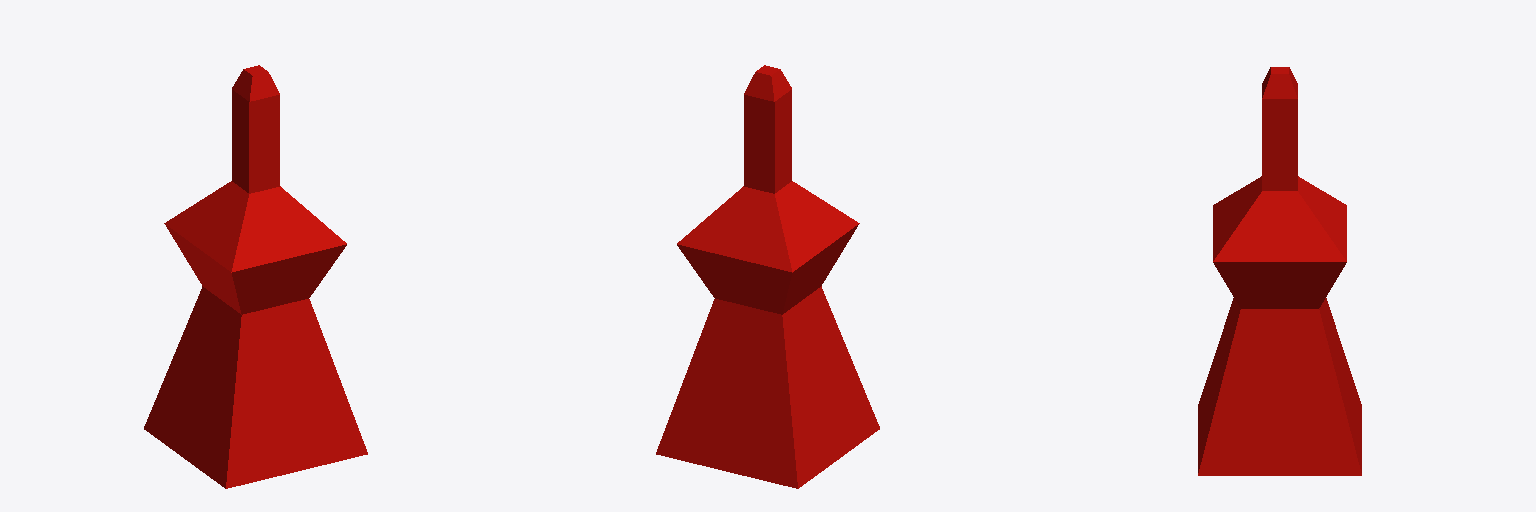
Rendered from Stupid.obj.
The picture shows the model from 3 angles: view 1: azimuth 30°, elevation 25°; view 2: azimuth 150°, elevation 25°; view 3: azimuth 270°, elevation 25°; orthographic projection.
Visible parts, largest first — view 1: Cube; view 2: Cube; view 3: Cube.
Part boxes in pixels (bbox=[...]): Cube: bbox=[144, 65, 367, 488]; Cube: bbox=[656, 65, 879, 488]; Cube: bbox=[1198, 67, 1361, 475].
Size of the model in its own units: 2 by 4.97 by 2.